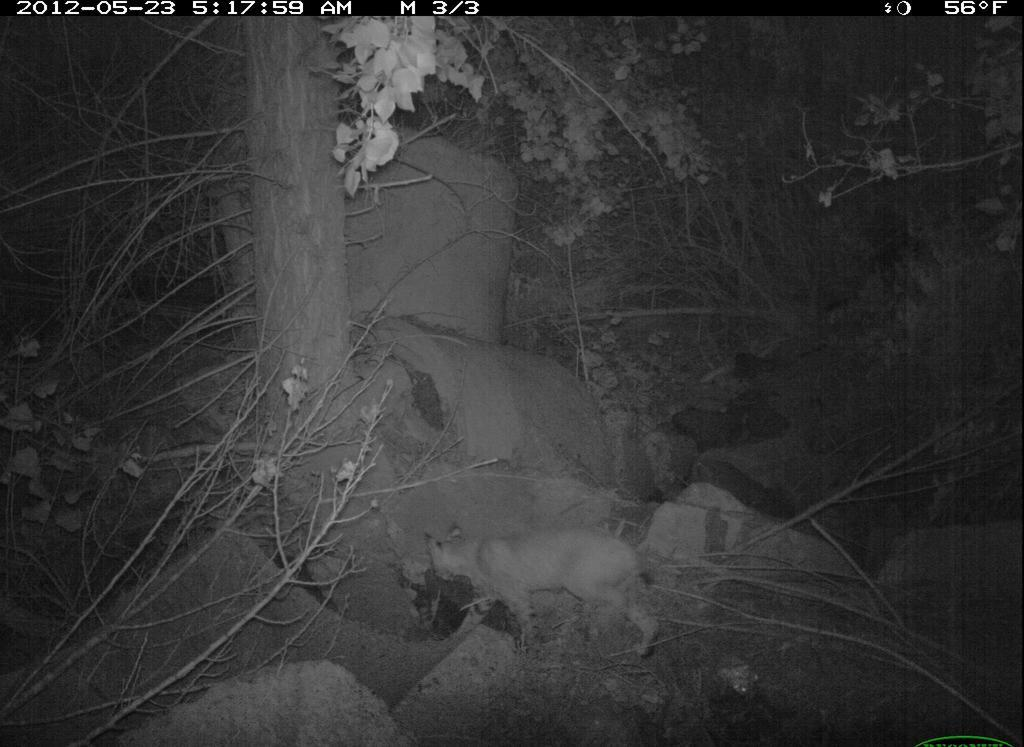bobcat: (406, 510, 684, 669)
